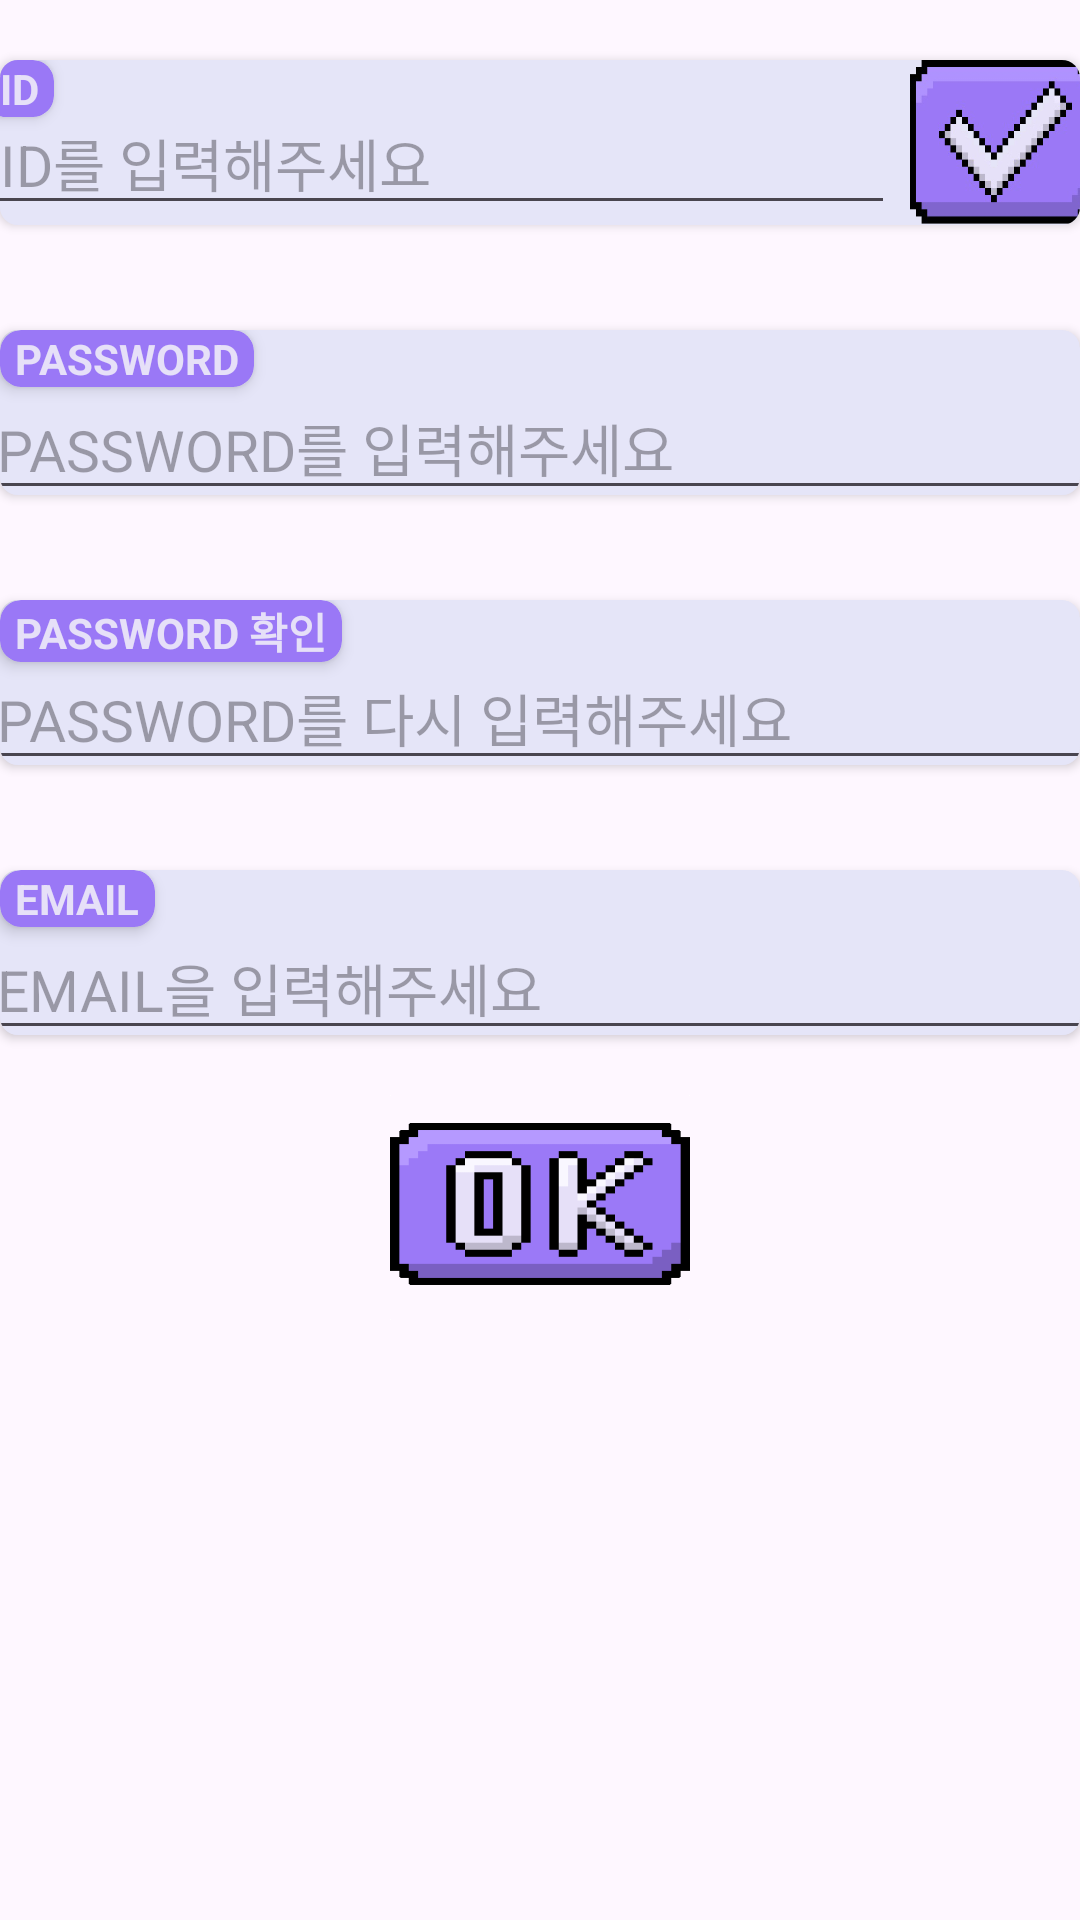

Named icons in this screenshot (1080 x 1920) and their centers, (x=x, y=y):
check: (x=995, y=142)
